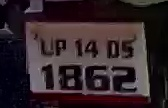1: (40, 61, 57, 91), (72, 38, 85, 59)
2: (110, 64, 140, 97)
4: (84, 37, 102, 60)
6: (86, 62, 113, 94)
8: (59, 64, 84, 92)
D: (105, 39, 120, 61)
P: (56, 39, 69, 59)
S: (120, 35, 135, 61)
U: (40, 35, 55, 58)
